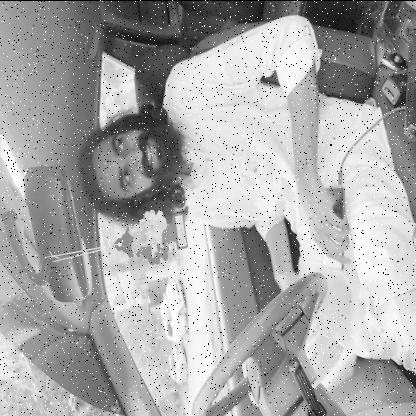no_seatbelt: (84, 90, 288, 219)
